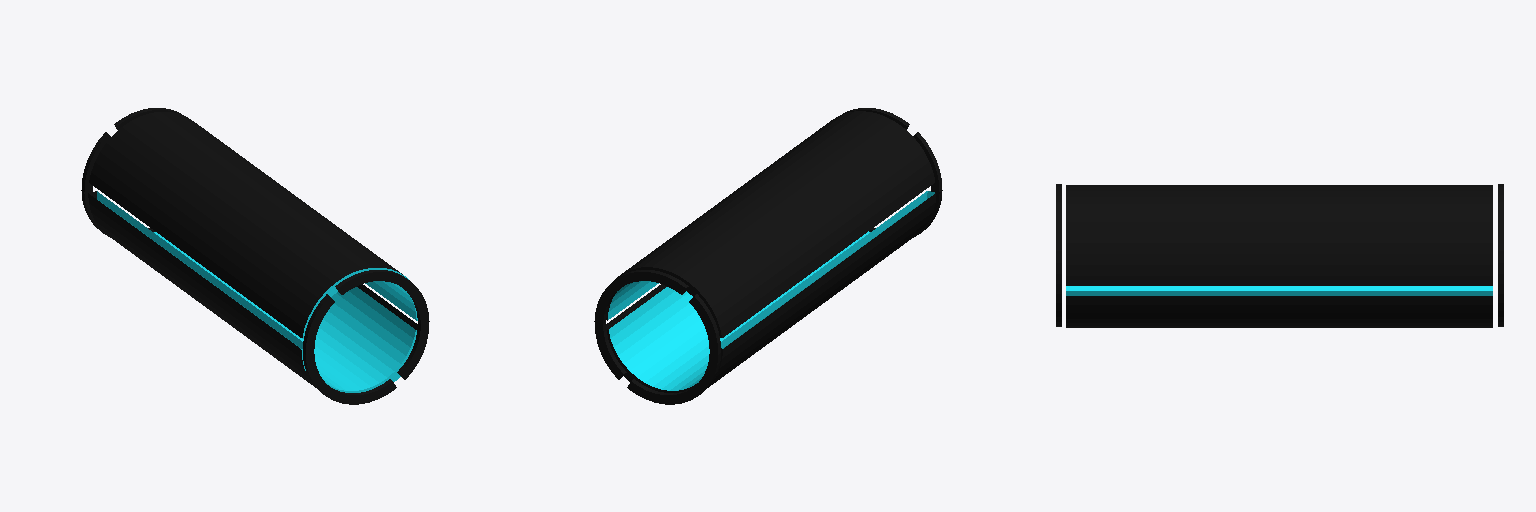
Rendered from SniperSight.obj.
The picture shows the model from 3 angles: view 1: azimuth 30°, elevation 25°; view 2: azimuth 150°, elevation 25°; view 3: azimuth 270°, elevation 25°; orthographic projection.
Visible parts, largest first — view 1: SniperSight; view 2: SniperSight; view 3: SniperSight.
Part boxes in pixels (left/top/right/bottom): SniperSight: left=81, top=108, right=429, bottom=404; SniperSight: left=594, top=108, right=942, bottom=404; SniperSight: left=1056, top=184, right=1503, bottom=327.
Size of the model in its own units: 0.0579 by 0.0575 by 0.1802.